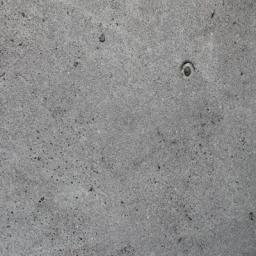FOD: (177, 62, 200, 81)
